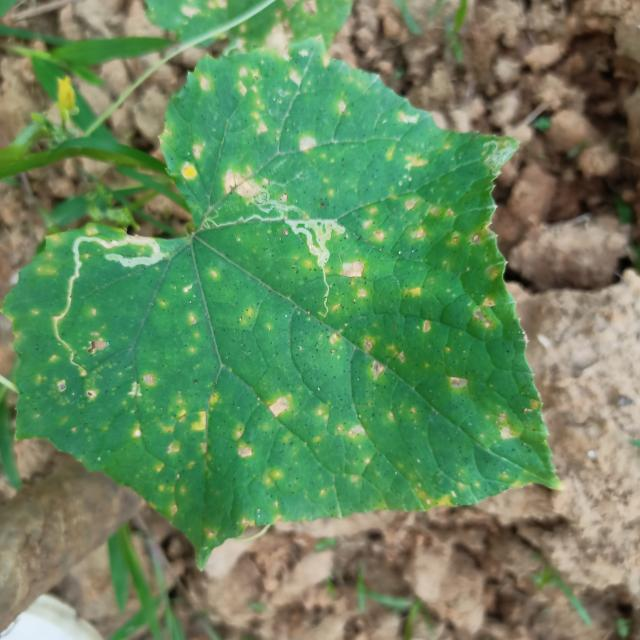disease_cucumber: (34, 62, 525, 521)
